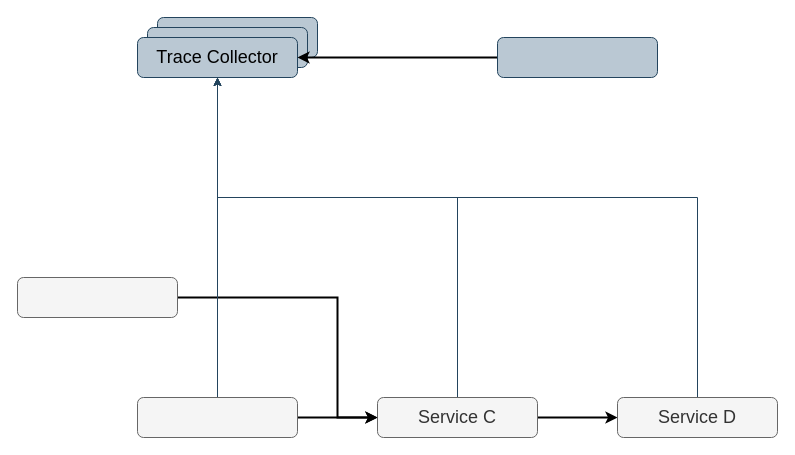
Image size: 795x455. Some labels were removed from this diagram. The shapes that lost their labels are listed below. From the top down, each one's centre as x and y in pixels, then its label:
pixel 577 57: JaegerUI
pixel 97 297: Service A
pixel 217 417: Service B
